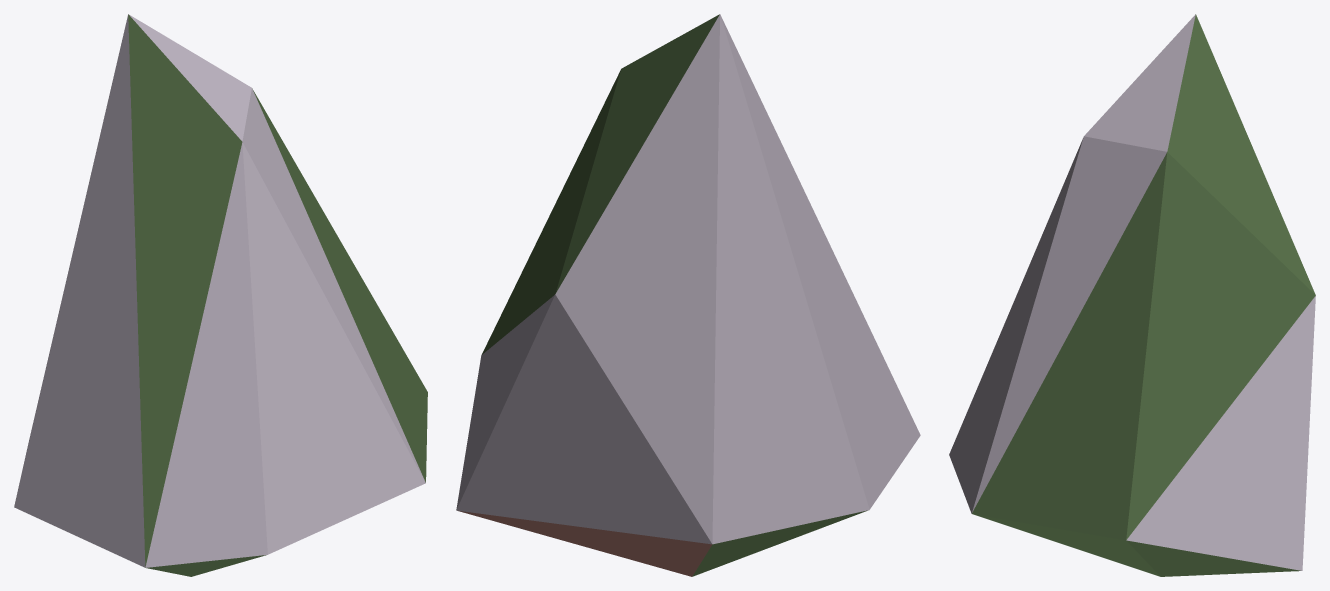
Rendered from PineTree_Snow_1.lod4.glb.
3 renders of one model, left to right at view 1: azimuth 30°, elevation 25°; view 2: azimuth 150°, elevation 25°; view 3: azimuth 270°, elevation 25°, orthographic. The views are drawn at different scales.
Visible parts, largest first — view 1: PineTree_Snow_1; view 2: PineTree_Snow_1; view 3: PineTree_Snow_1.
Boxes of the visible parts, <box> form: PineTree_Snow_1: <box>14,14,427,576</box>; PineTree_Snow_1: <box>456,14,920,576</box>; PineTree_Snow_1: <box>949,14,1315,576</box>.
Bounding box in the file's own units: 2.04 × 2.79 × 1.71.
